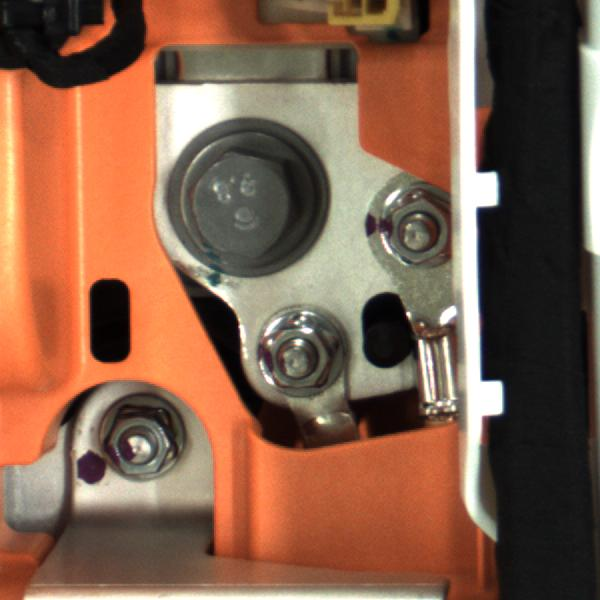nut_b: (161, 128, 327, 268)
screw_s: (249, 292, 345, 400), (93, 387, 184, 492), (374, 181, 459, 271)
